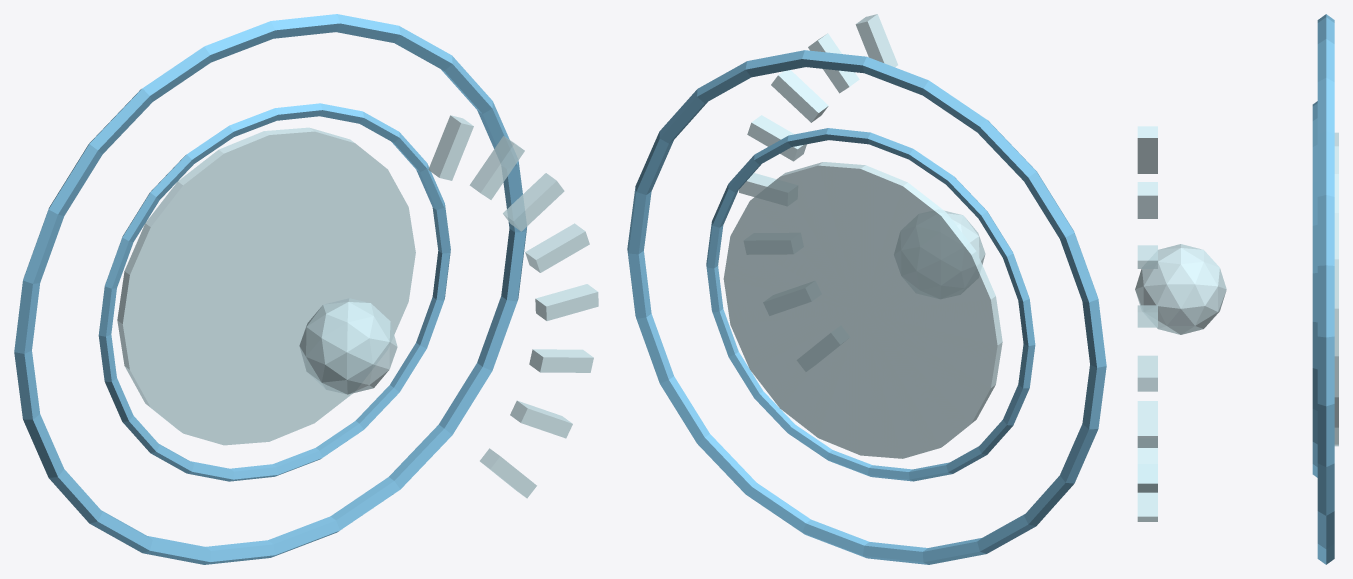
The model's file is 01_class_special_attack_vfx.glb.
3 renders of one model, left to right at view 1: azimuth 30°, elevation 25°; view 2: azimuth 150°, elevation 25°; view 3: azimuth 270°, elevation 25°, orthographic. The views are drawn at different scales.
Parts seen in each view (by area): view 1: ability_cast_disc, shockwave, ability_outer_ring, class_energy_core, attack_flow_arc_seg_7, attack_flow_arc_seg_5, attack_flow_arc_seg_6, attack_flow_arc_seg_4, attack_flow_arc_seg_3, attack_flow_arc_seg_2, attack_flow_arc_seg_1, attack_flow_arc_seg_0; view 2: ability_cast_disc, shockwave, ability_outer_ring, attack_flow_arc_seg_5, attack_flow_arc_seg_7, attack_flow_arc_seg_4, attack_flow_arc_seg_6, class_energy_core; view 3: shockwave, class_energy_core, ability_outer_ring, ability_cast_disc, attack_flow_arc_seg_7, attack_flow_arc_seg_2, attack_flow_arc_seg_1, attack_flow_arc_seg_6, attack_flow_arc_seg_3, attack_flow_arc_seg_0, attack_flow_arc_seg_5, attack_flow_arc_seg_4.
Part boxes in pixels (<box>): ability_cast_disc: <box>117,127,415,445</box>; shockwave: <box>14,14,527,564</box>; ability_outer_ring: <box>98,103,450,481</box>; class_energy_core: <box>299,298,397,394</box>; attack_flow_arc_seg_7: <box>428,115,473,180</box>; attack_flow_arc_seg_5: <box>503,173,564,231</box>; attack_flow_arc_seg_6: <box>469,136,524,199</box>; attack_flow_arc_seg_4: <box>525,223,589,272</box>; attack_flow_arc_seg_3: <box>535,284,598,320</box>; attack_flow_arc_seg_2: <box>529,349,593,372</box>; attack_flow_arc_seg_1: <box>510,400,572,438</box>; attack_flow_arc_seg_0: <box>480,448,536,498</box>; ability_cast_disc: <box>723,162,1002,458</box>; shockwave: <box>627,50,1106,564</box>; ability_outer_ring: <box>706,128,1035,481</box>; attack_flow_arc_seg_5: <box>771,70,828,122</box>; attack_flow_arc_seg_7: <box>855,14,897,67</box>; attack_flow_arc_seg_4: <box>747,115,806,161</box>; attack_flow_arc_seg_6: <box>808,33,859,93</box>; class_energy_core: <box>944,210,985,264</box>; shockwave: <box>1317,14,1334,564</box>; class_energy_core: <box>1135,244,1226,334</box>; ability_outer_ring: <box>1312,101,1317,477</box>; ability_cast_disc: <box>1334,132,1338,446</box>; attack_flow_arc_seg_7: <box>1137,126,1157,173</box>; attack_flow_arc_seg_2: <box>1137,401,1157,447</box>; attack_flow_arc_seg_1: <box>1137,448,1157,492</box>; attack_flow_arc_seg_6: <box>1137,182,1157,218</box>; attack_flow_arc_seg_3: <box>1137,355,1157,391</box>; attack_flow_arc_seg_0: <box>1137,492,1157,521</box>; attack_flow_arc_seg_5: <box>1137,245,1157,268</box>; attack_flow_arc_seg_4: <box>1137,305,1157,327</box>.
Bounding box in the file's own units: 2.17 × 2.17 × 0.8.
